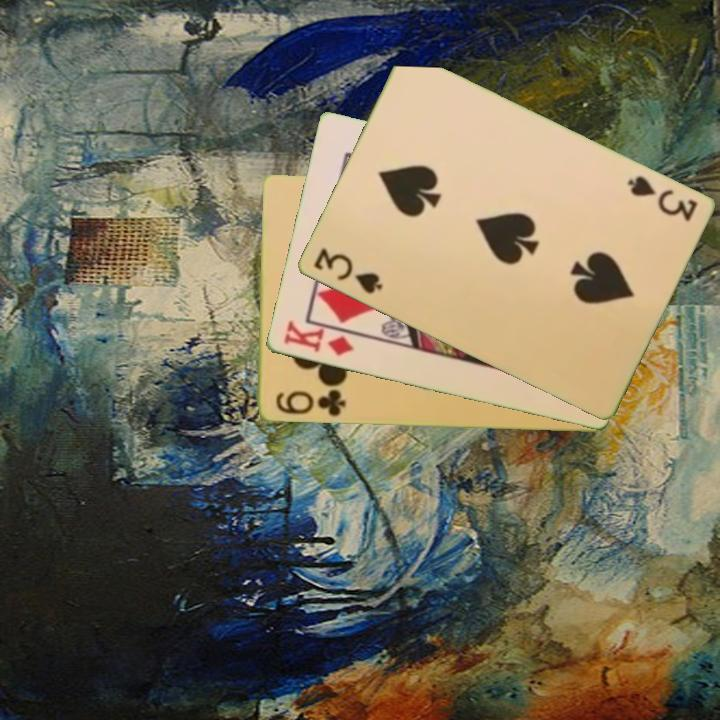3s: (622, 172, 700, 225), (309, 244, 385, 297)
6c: (272, 387, 348, 420)
Kd: (279, 317, 357, 359)
